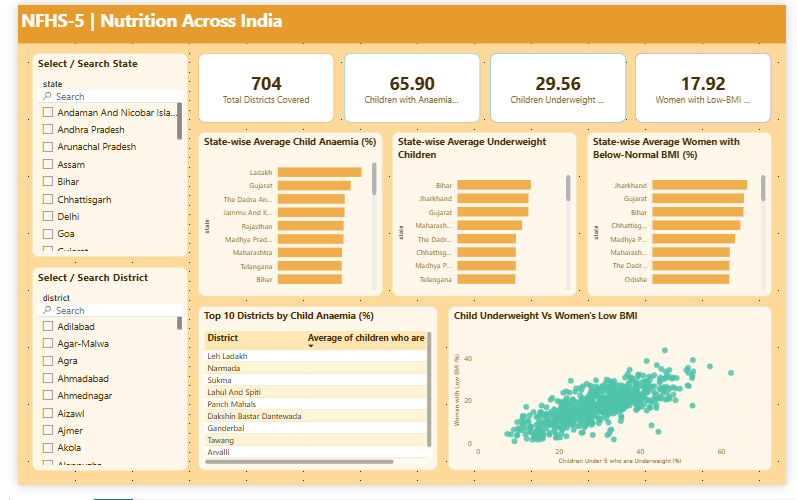

The dashboard page shown, as its layout file describes it:
{"tool":"powerbi","page":{"name":"Nutrition","canvas":[1280,800],"ordinal":0},"visuals":[{"type":"textbox","box":[0,0,1280,64],"z":0},{"type":"slicer","title":"Select / Search State","fields":{"Values":["FINAL_nfhs5_cleaned.state"]},"box":[24,80,260,340],"z":1000},{"type":"slicer","title":"Select / Search District","fields":{"Values":["FINAL_nfhs5_cleaned.district"]},"box":[24,436,260,340],"z":2000},{"type":"cardVisual","fields":{"Data":["CountNonNull(FINAL_nfhs5_cleaned.district)"]},"box":[300,80,227,116],"z":3000},{"type":"cardVisual","fields":{"Data":["Avg(FINAL_nfhs5_cleaned.children_age_group_6_to_59_months_who_are_anaemic)"]},"box":[543,80,227,116],"z":4000},{"type":"cardVisual","fields":{"Data":["Avg(FINAL_nfhs5_cleaned.children_under_5_years_who_are_underweight)"]},"box":[786,80,227,116],"z":5000},{"type":"cardVisual","fields":{"Data":["Avg(FINAL_nfhs5_cleaned.women_with_body_mass_index_below_normal)"]},"box":[1029,80,227,116],"z":6000},{"type":"clusteredBarChart","title":"State-wise Average Child Anaemia (%)","fields":{"Category":["FINAL_nfhs5_cleaned.state"],"Y":["Avg(FINAL_nfhs5_cleaned.children_age_group_6_to_59_months_who_are_anaemic)"]},"box":[300,212,308,274],"z":7000},{"type":"clusteredBarChart","title":"State-wise Average Underweight Children","fields":{"Category":["FINAL_nfhs5_cleaned.state"],"Y":["Avg(FINAL_nfhs5_cleaned.children_under_5_years_who_are_underweight)"]},"box":[624,212,308,274],"z":8000},{"type":"clusteredBarChart","title":"State-wise Average Women with Below-Normal BMI (%)","fields":{"Category":["FINAL_nfhs5_cleaned.state"],"Y":["Avg(FINAL_nfhs5_cleaned.women_with_body_mass_index_below_normal)"]},"box":[948,212,308,274],"z":9000},{"type":"tableEx","title":"Top 10 Districts by Child Anaemia (%)","fields":{"Values":["FINAL_nfhs5_cleaned.district","Avg(FINAL_nfhs5_cleaned.children_age_group_6_to_59_months_who_are_anaemic)"]},"box":[300,502,400,274],"z":10000},{"type":"scatterChart","title":"Child Underweight Vs Women's Low BMI","fields":{"Y":["Avg(FINAL_nfhs5_cleaned.women_with_body_mass_index_below_normal)"],"Category":["FINAL_nfhs5_cleaned.district"],"X":["Avg(FINAL_nfhs5_cleaned.children_under_5_years_who_are_underweight)"]},"box":[716,502,540,274],"z":11000}]}

Visuals, with their boxes in screenshot pixels (x1, y1, x2, y2), scaled from the page's 1280x800 canvas onto the 797x500 screenshot:
textbox: crop(0, 0, 796, 40)
"Select / Search State" slicer: crop(15, 50, 177, 262)
"Select / Search District" slicer: crop(15, 272, 177, 485)
cardVisual - CountNonNull(FINAL_nfhs5_cleaned.district): crop(187, 50, 328, 122)
cardVisual - Avg(FINAL_nfhs5_cleaned.children_age_group_6_to_59_months_who_are_anaemic): crop(338, 50, 479, 122)
cardVisual - Avg(FINAL_nfhs5_cleaned.children_under_5_years_who_are_underweight): crop(489, 50, 631, 122)
cardVisual - Avg(FINAL_nfhs5_cleaned.women_with_body_mass_index_below_normal): crop(641, 50, 782, 122)
"State-wise Average Child Anaemia (%)" clusteredBarChart: crop(187, 132, 379, 304)
"State-wise Average Underweight Children" clusteredBarChart: crop(389, 132, 580, 304)
"State-wise Average Women with Below-Normal BMI (%)" clusteredBarChart: crop(590, 132, 782, 304)
"Top 10 Districts by Child Anaemia (%)" tableEx: crop(187, 314, 436, 485)
"Child Underweight Vs Women's Low BMI" scatterChart: crop(446, 314, 782, 485)
